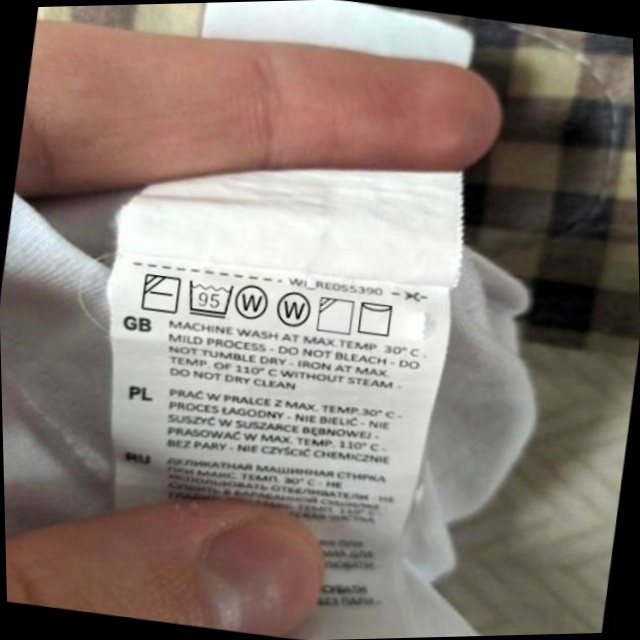95C: (182, 275, 237, 322)
dry_flat_in_shade: (137, 269, 184, 318)
line_dry: (353, 296, 399, 341)
shade_dry: (313, 293, 358, 338)
wet_clean: (273, 287, 316, 333), (232, 278, 274, 324)
